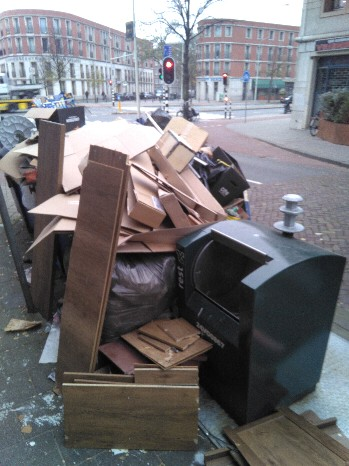Container: (191, 217, 330, 401)
Rest: (16, 110, 103, 322), (70, 345, 209, 464), (76, 132, 246, 219), (65, 231, 177, 350), (232, 426, 349, 466)
